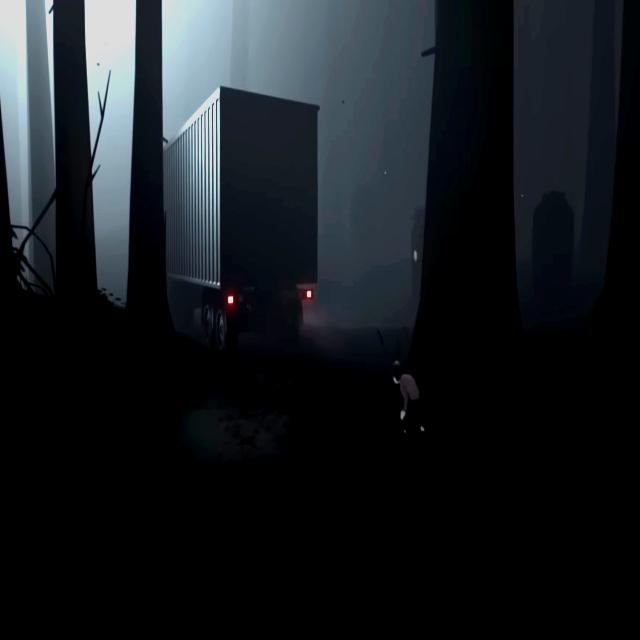boy: (392, 361, 426, 437)
